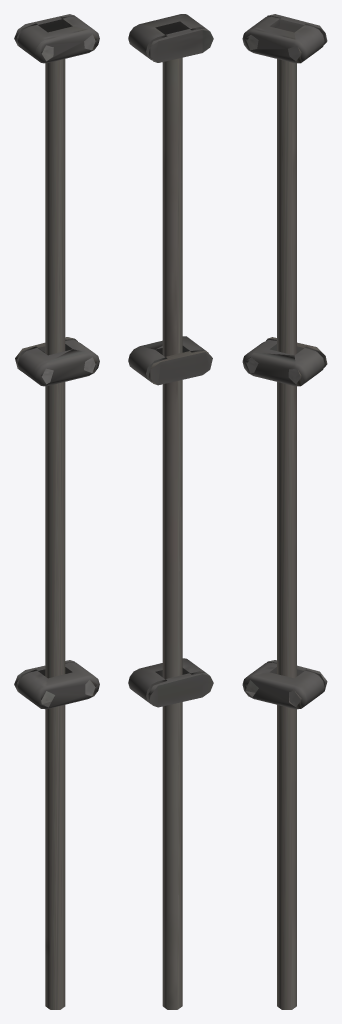
File: modular-electric-cables-straight.glb
3 views of the same model, side by side, from view 1: azimuth 30°, elevation 25°; view 2: azimuth 210°, elevation 25°; view 3: azimuth 330°, elevation 25° (orthographic).
Parts seen in each view (by area): view 1: modular_electric_cables_straight; view 2: modular_electric_cables_straight; view 3: modular_electric_cables_straight.
Part boxes in pixels (<box>): modular_electric_cables_straight: <box>14,14,99,1009</box>; modular_electric_cables_straight: <box>128,14,213,1009</box>; modular_electric_cables_straight: <box>242,14,327,1009</box>.
Bounding box in the file's own units: 0.0417 × 0.6073 × 0.0259.
1 material, 1 textured.
